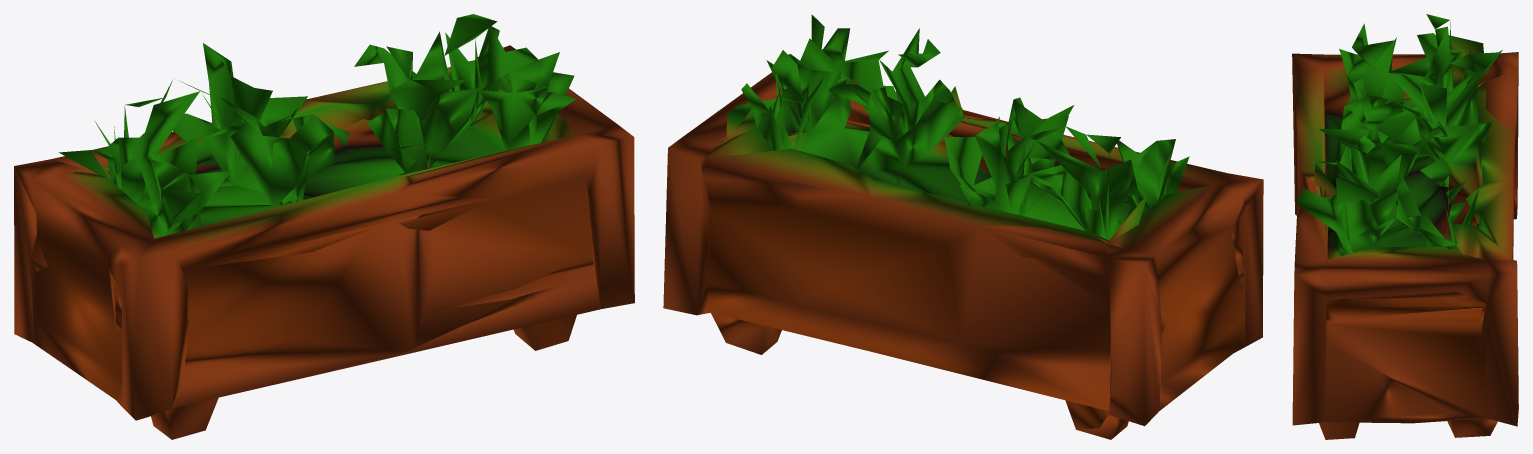
File: gen3d-planter-box-lod1.glb
The picture shows the model from 3 angles, left to right: view 1: azimuth 30°, elevation 25°; view 2: azimuth 150°, elevation 25°; view 3: azimuth 270°, elevation 25°; orthographic projection. The views are drawn at different scales.
Parts seen in each view (by area): view 1: part_0; view 2: part_0; view 3: part_0.
Boxes of the visible parts, x1,y1,x2,y2 form: part_0: [14, 14, 634, 439]; part_0: [663, 14, 1263, 439]; part_0: [1292, 14, 1518, 439].
Bounding box in the file's own units: 1.68 × 0.9671 × 0.7203.
